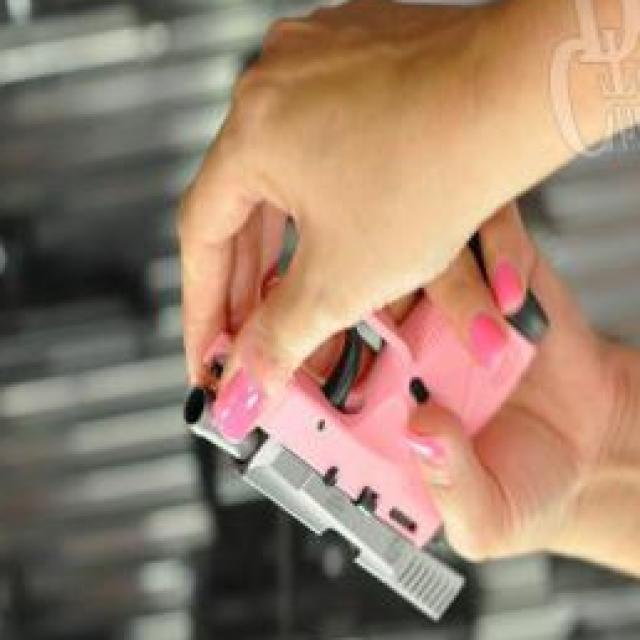pistol: (178, 243, 554, 633)
